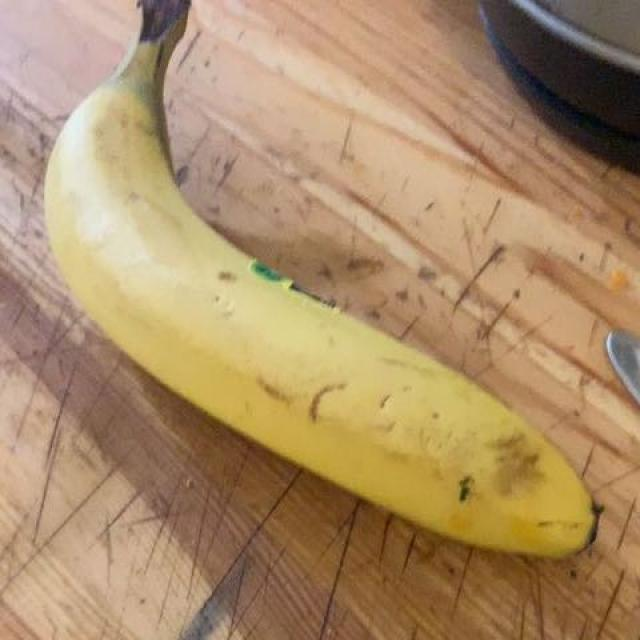Banana: (30, 0, 611, 573)
